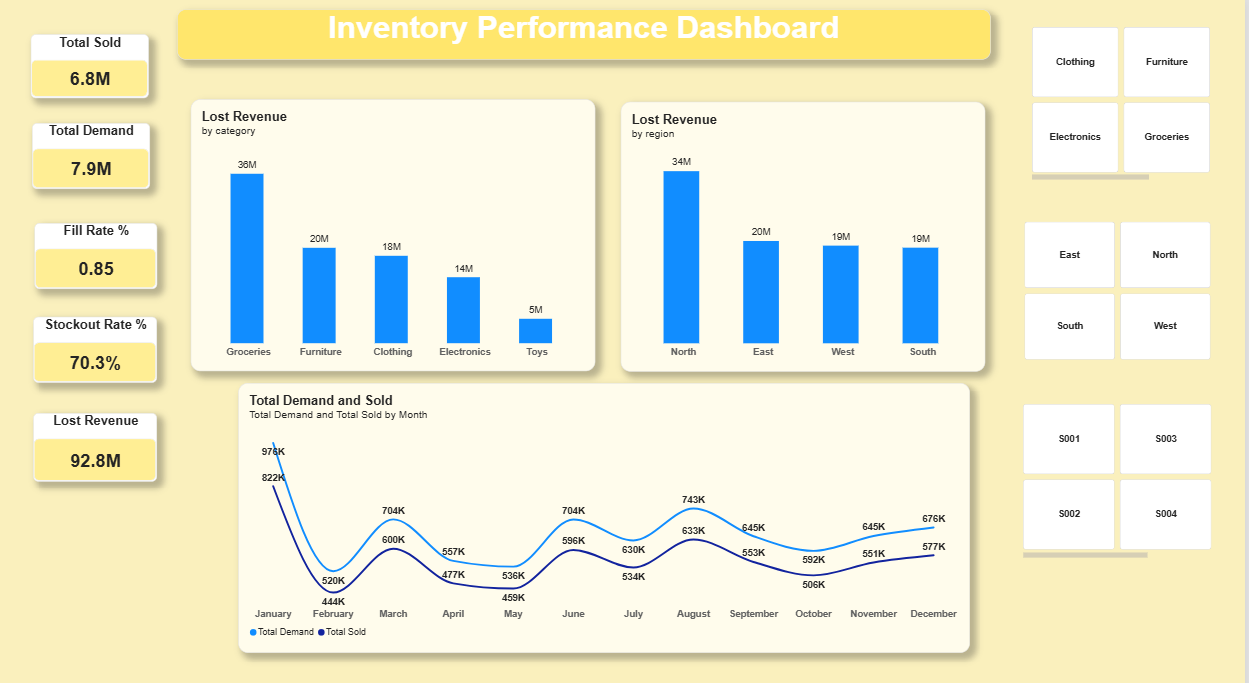

What the dashboard file says about the page in this screenshot:
{"tool":"powerbi","page":{"name":"Overview","canvas":[1920,1080],"ordinal":0},"visuals":[{"type":"textbox","box":[277.8,16.7,1251.9,77.8],"z":0},{"type":"cardVisual","title":"Total Sold","fields":{"Data":["Inventory.Total Sold"]},"box":[51.9,55.6,181.5,98.1],"z":1000},{"type":"cardVisual","title":"Total Demand","fields":{"Data":["Inventory.Total Demand"]},"box":[53.7,192.6,181.5,101.9],"z":2000},{"type":"cardVisual","title":"Fill Rate %","fields":{"Data":["Inventory.Fill Rate %"]},"box":[57.4,346.3,188.9,101.9],"z":3000},{"type":"cardVisual","title":"Stockout Rate %","fields":{"Data":["Inventory.Stockout Rate %"]},"box":[55.6,490.7,190.7,101.9],"z":4000},{"type":"cardVisual","title":"Lost Revenue","fields":{"Data":["Inventory.Lost Revenue"]},"box":[55.6,638.9,190.7,105.6],"z":5000},{"type":"advancedSlicerVisual","fields":{"Values":["Inventory.category"]},"box":[1593,43.3,274.1,237],"z":6000},{"type":"advancedSlicerVisual","fields":{"Values":["Inventory.region"]},"box":[1580,343.3,287,213],"z":7000},{"type":"advancedSlicerVisual","fields":{"Values":["Inventory.store_id"]},"box":[1579.6,624.1,290.7,238.9],"z":8000},{"type":"clusteredColumnChart","fields":{"Category":["Inventory.category"],"Y":["Inventory.Lost Revenue"]},"box":[298.1,155.6,622.2,418.5],"z":9000},{"type":"clusteredColumnChart","fields":{"Category":["Inventory.region"],"Y":["Inventory.Lost Revenue"]},"box":[959.3,159.3,561.1,414.8],"z":10000},{"type":"lineChart","title":"Total Demand and Sold","fields":{"Category":["Inventory.sale_date.Variation.Date Hierarchy.Month"],"Y":["Inventory.Total Demand","Inventory.Total Sold"]},"box":[370.4,592.6,1125.9,414.8],"z":11000}]}

Visuals, with their boxes in screenshot pixels (x1, y1, x2, y2), scaled from the page's 1920x1080 canvas onto the 1249x683 screenshot:
textbox: 181, 11, 995, 60
"Total Sold" cardVisual: 34, 35, 152, 97
"Total Demand" cardVisual: 35, 122, 153, 186
"Fill Rate %" cardVisual: 37, 219, 160, 283
"Stockout Rate %" cardVisual: 36, 310, 160, 375
"Lost Revenue" cardVisual: 36, 404, 160, 471
advancedSlicerVisual - Inventory.category: 1036, 27, 1215, 177
advancedSlicerVisual - Inventory.region: 1028, 217, 1215, 352
advancedSlicerVisual - Inventory.store_id: 1028, 395, 1217, 546
clusteredColumnChart - Inventory.category x Inventory.Lost Revenue: 194, 98, 599, 363
clusteredColumnChart - Inventory.region x Inventory.Lost Revenue: 624, 101, 989, 363
"Total Demand and Sold" lineChart: 241, 375, 973, 637
